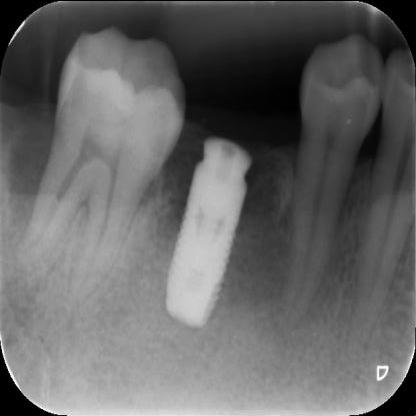ITI: (158, 128, 261, 337)
